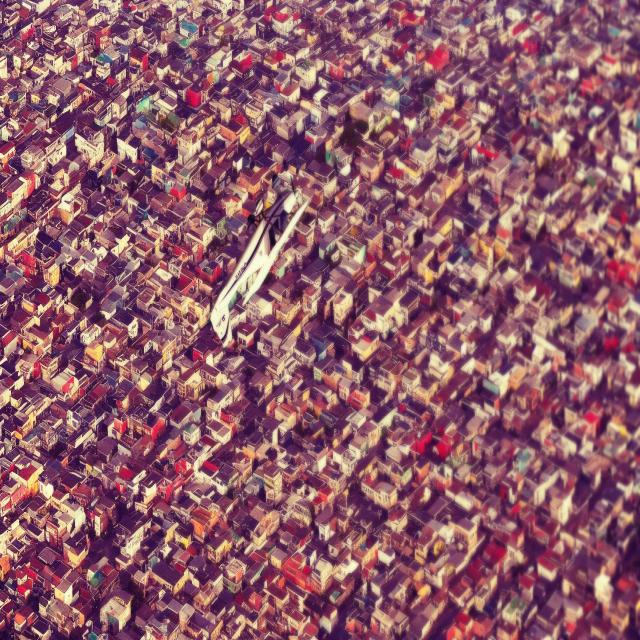airplane: (209, 186, 311, 348)
